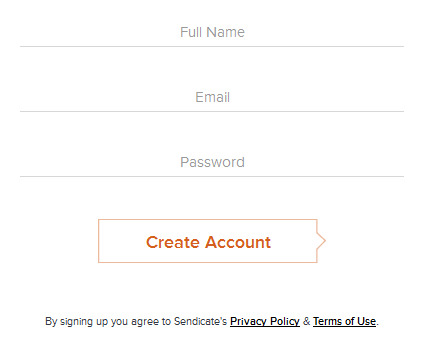_form_: (1, 1, 416, 348)
button: (96, 218, 318, 264)
field_line: (18, 153, 405, 178), (19, 25, 405, 48), (17, 91, 405, 113)
